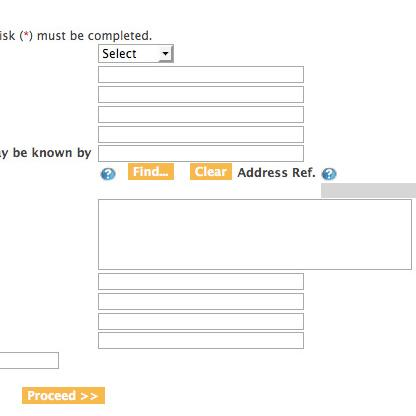button: (20, 386, 107, 405), (125, 162, 177, 181), (188, 161, 235, 181)
field: (97, 197, 414, 272), (96, 330, 306, 351), (96, 124, 305, 145), (96, 84, 306, 104), (97, 272, 305, 292), (96, 65, 306, 84), (97, 144, 306, 163), (96, 312, 305, 331), (96, 292, 304, 311), (96, 106, 306, 124), (96, 43, 176, 63)
